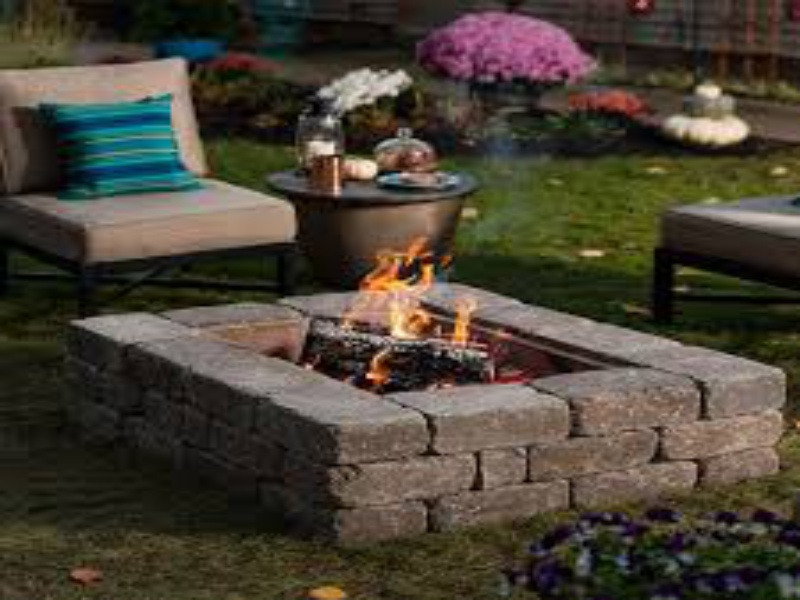fire: (344, 243, 435, 332), (450, 293, 476, 339), (367, 347, 388, 386)
